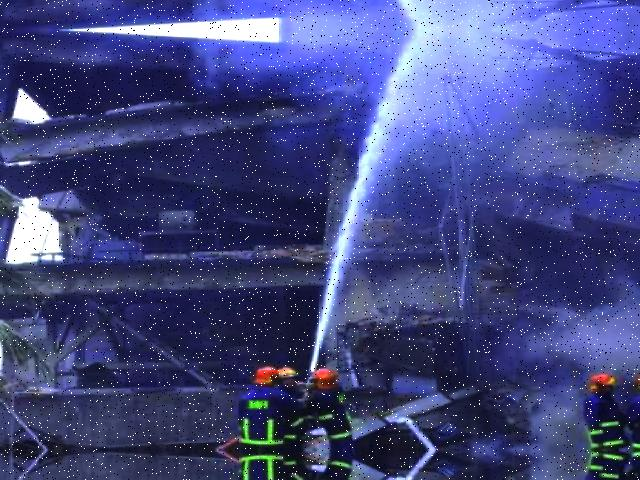Helmet: (249, 360, 285, 386), (310, 364, 344, 390), (591, 370, 622, 393), (282, 360, 302, 378)
